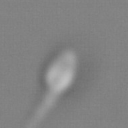normal: (19, 90, 54, 128)
